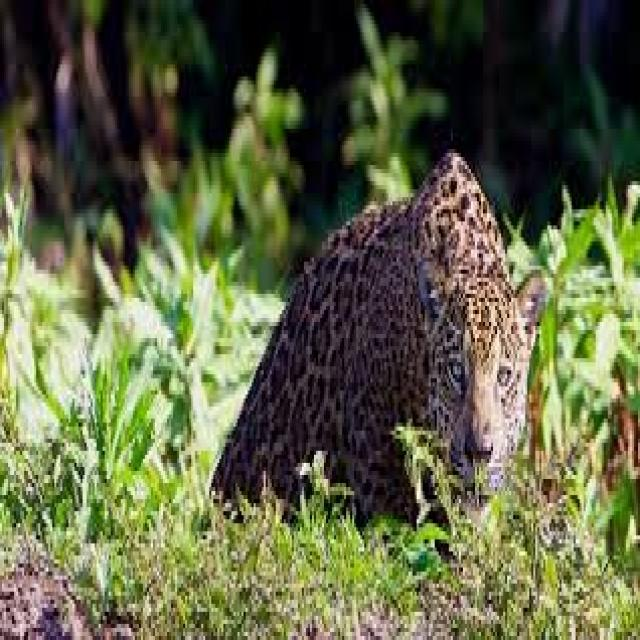Jaguar: (204, 120, 552, 568)
